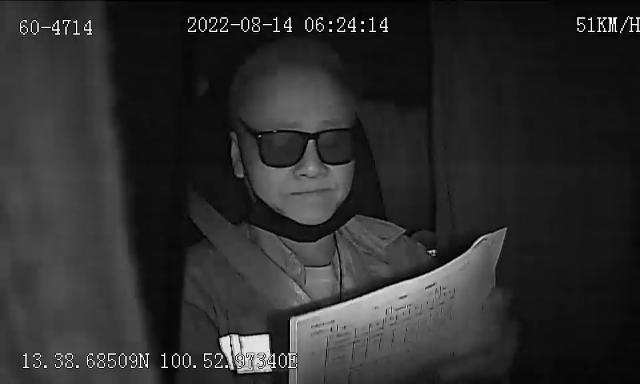Seatbelt: (186, 190, 316, 312)
